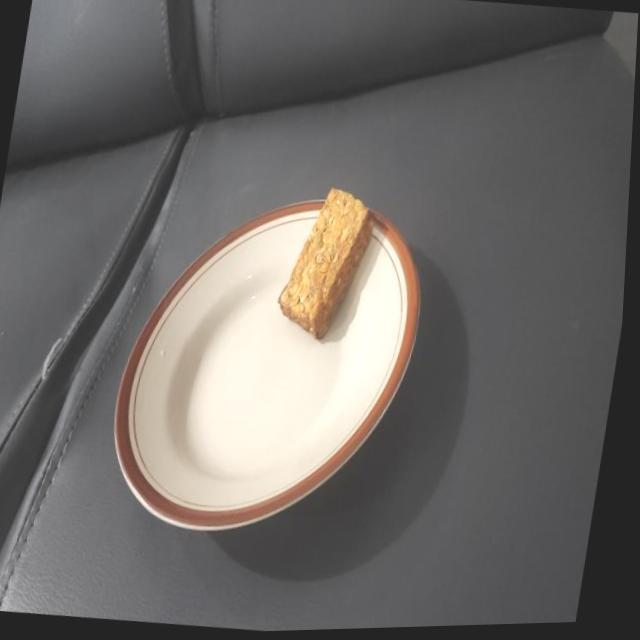tempe_goreng: (278, 188, 372, 338)
